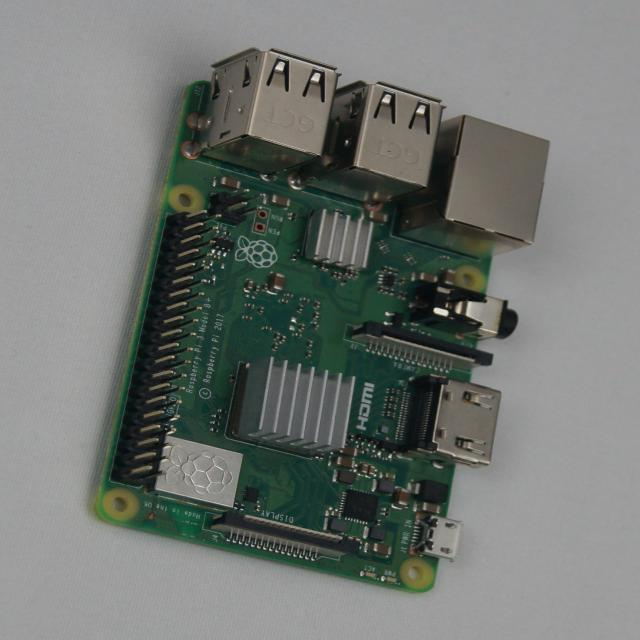Raspberry Pi 3 B-: (97, 50, 549, 592)
